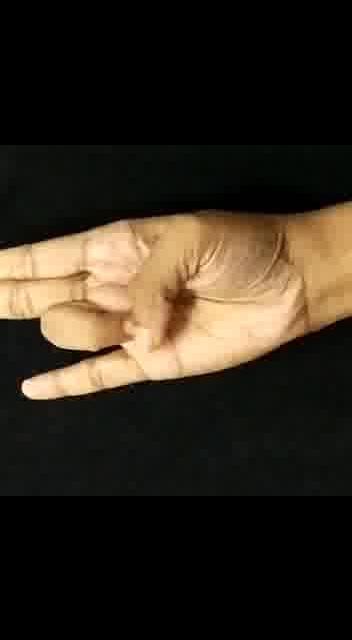mayur: (0, 182, 340, 440)
